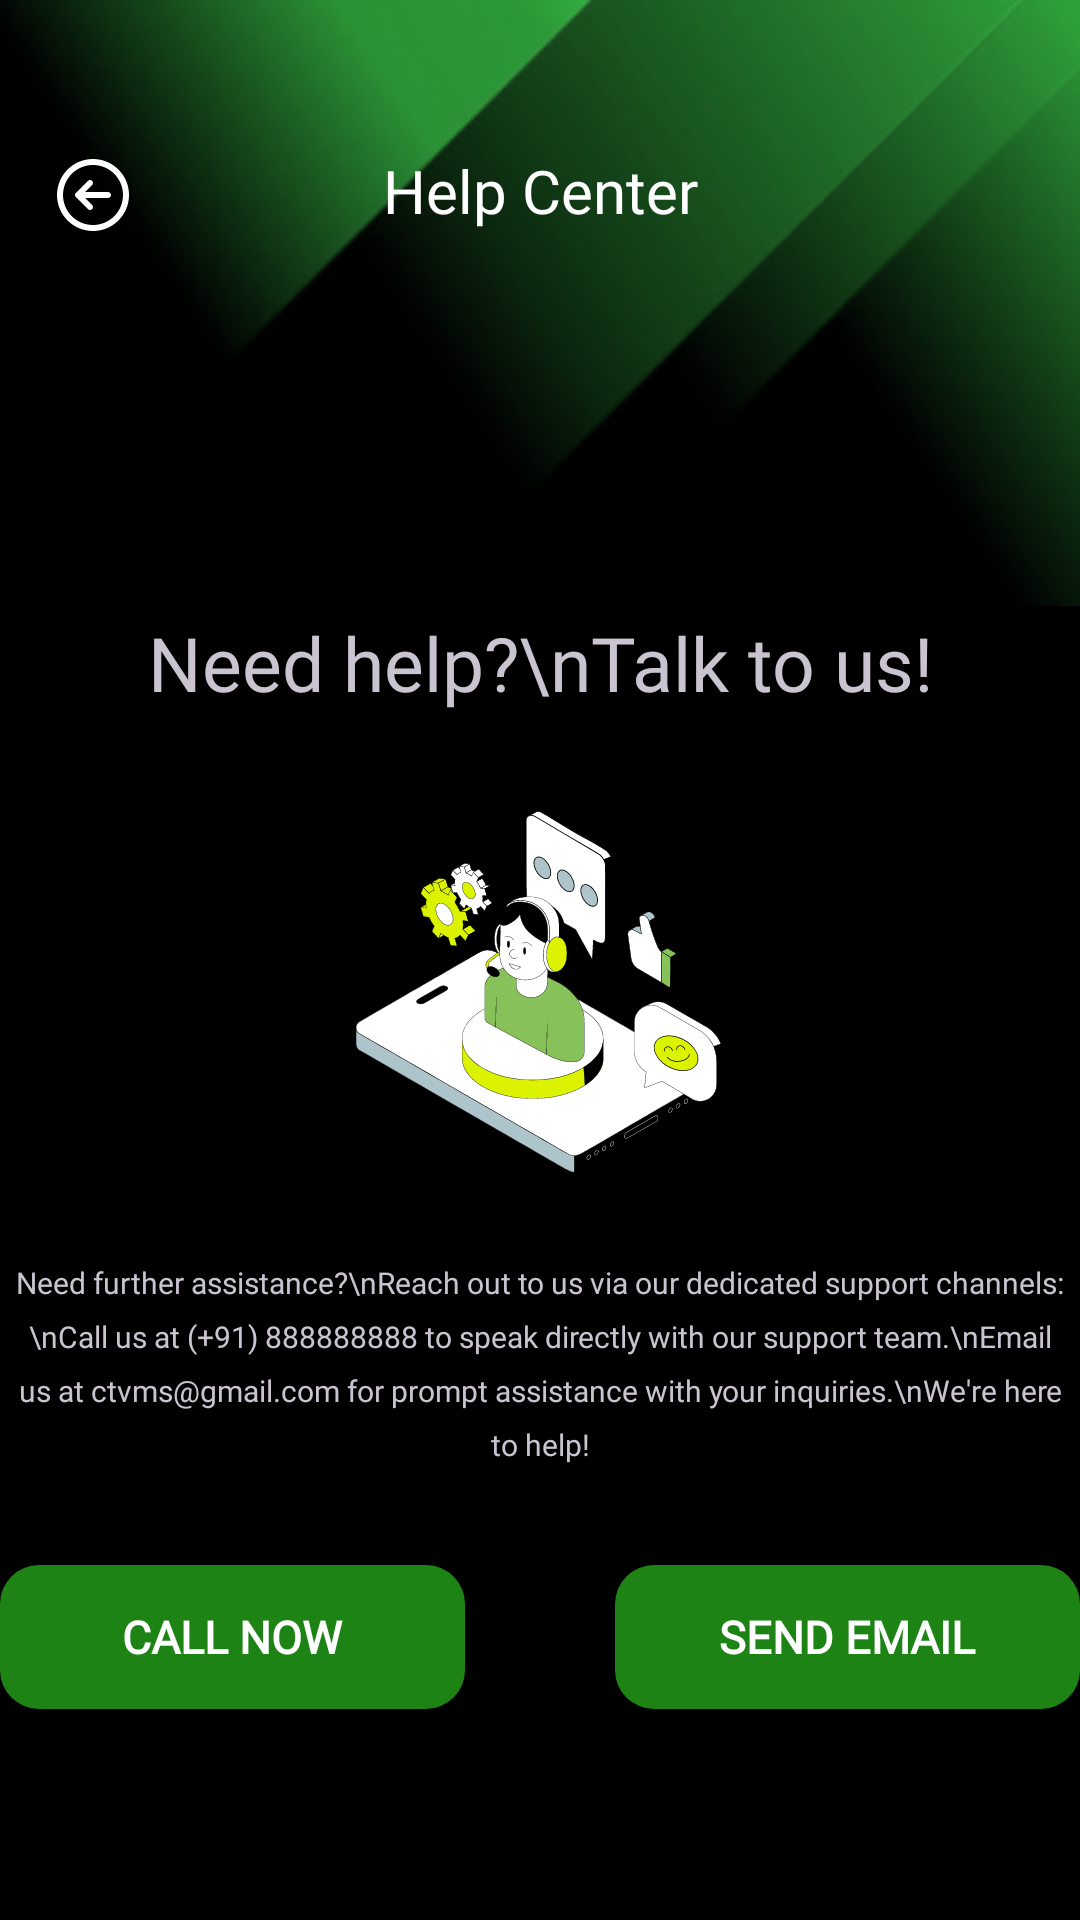

Screen size 1080w x 1920h. Icon name, then its box in pixels as {"left": x1, "top": y1, "right": x2, "bottom": y2}:
backicon: {"left": 57, "top": 159, "right": 129, "bottom": 231}
